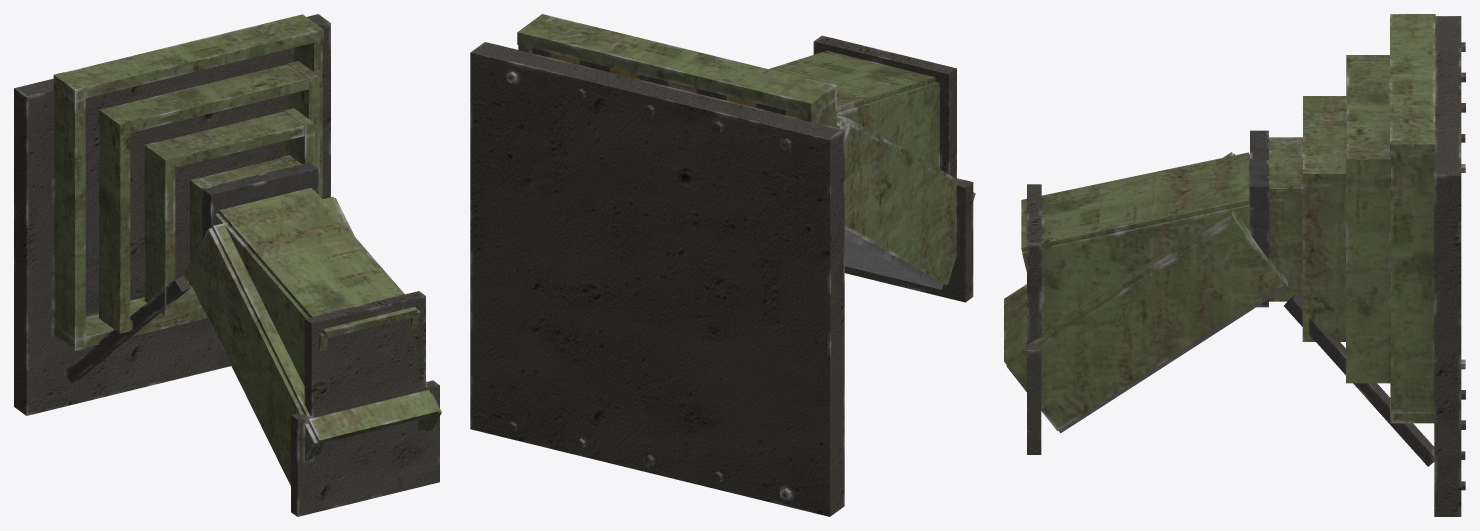
Rendered from feFunnel_HD.fbx.
The picture shows the model from 3 angles, left to right: view 1: azimuth 30°, elevation 25°; view 2: azimuth 150°, elevation 25°; view 3: azimuth 270°, elevation 25°; orthographic projection. The views are drawn at different scales.
Visible parts, largest first — view 1: feFunnel_Base, FeFunnelSpout, FeFunnelSpoutDuct; view 2: feFunnel_Base, FeFunnelSpoutDuct, FeFunnelSpout; view 3: feFunnel_Base, FeFunnelSpoutDuct, FeFunnelSpout.
Part boxes in pixels (bbox=[...]): feFunnel_Base: bbox=[14, 14, 330, 415]; FeFunnelSpout: bbox=[215, 188, 425, 417]; FeFunnelSpoutDuct: bbox=[185, 196, 441, 516]; feFunnel_Base: bbox=[470, 14, 844, 516]; FeFunnelSpoutDuct: bbox=[836, 115, 975, 302]; FeFunnelSpout: bbox=[768, 35, 956, 178]; feFunnel_Base: bbox=[1250, 14, 1465, 516]; FeFunnelSpoutDuct: bbox=[1004, 152, 1287, 454]; FeFunnelSpout: bbox=[1021, 152, 1249, 343].
Size of the model in its own units: 0.8612 by 0.903 by 1.06.
Materials: 1 (1 with a texture image).
